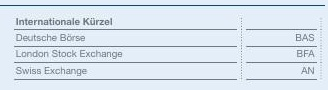table: (0, 0, 328, 90)
